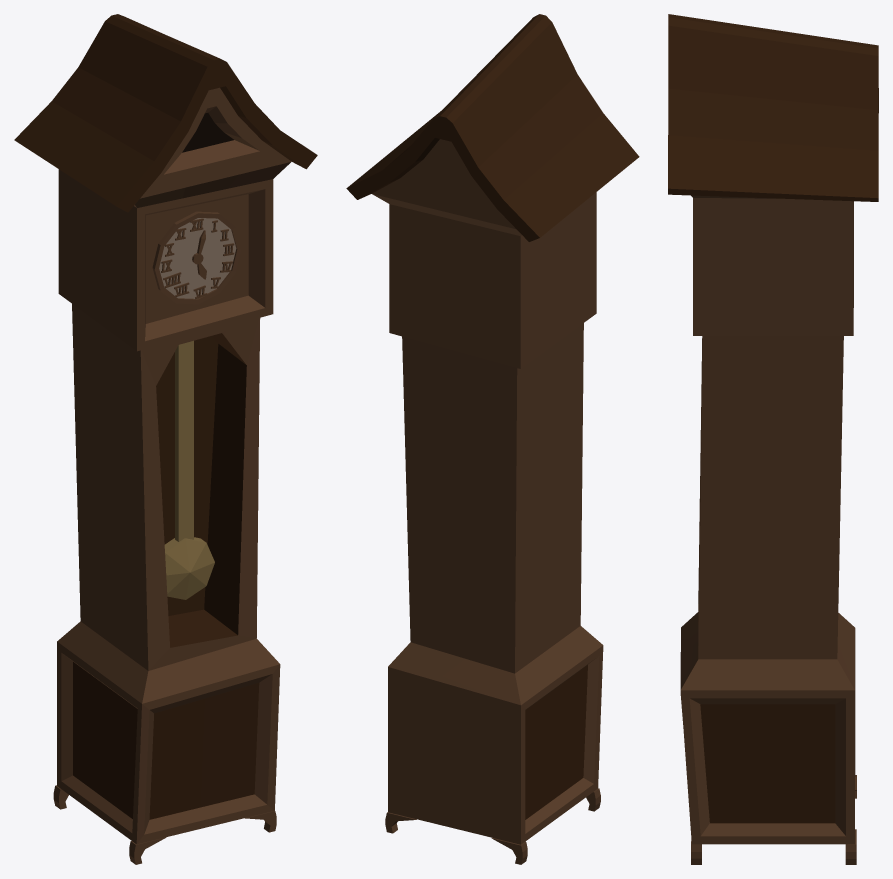
Rendered from Furnit 5 Clock.glb.
3 views of the same model, side by side, from view 1: azimuth 30°, elevation 25°; view 2: azimuth 150°, elevation 25°; view 3: azimuth 270°, elevation 25° (orthographic). The views are drawn at different scales.
Parts seen in each view (by area): view 1: Furnit 5 Clock; view 2: Furnit 5 Clock; view 3: Furnit 5 Clock.
Part boxes in pixels (x1,y1,x2,y2): Furnit 5 Clock: (14, 14, 317, 864); Furnit 5 Clock: (346, 14, 639, 864); Furnit 5 Clock: (668, 14, 878, 864).
Size of what is drawn, in the model's own units: 0.7895 by 2.99 by 0.7002.
Materials: 1 (1 with a texture image).
